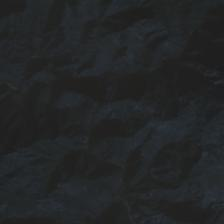landslides: (138, 35, 146, 64)
